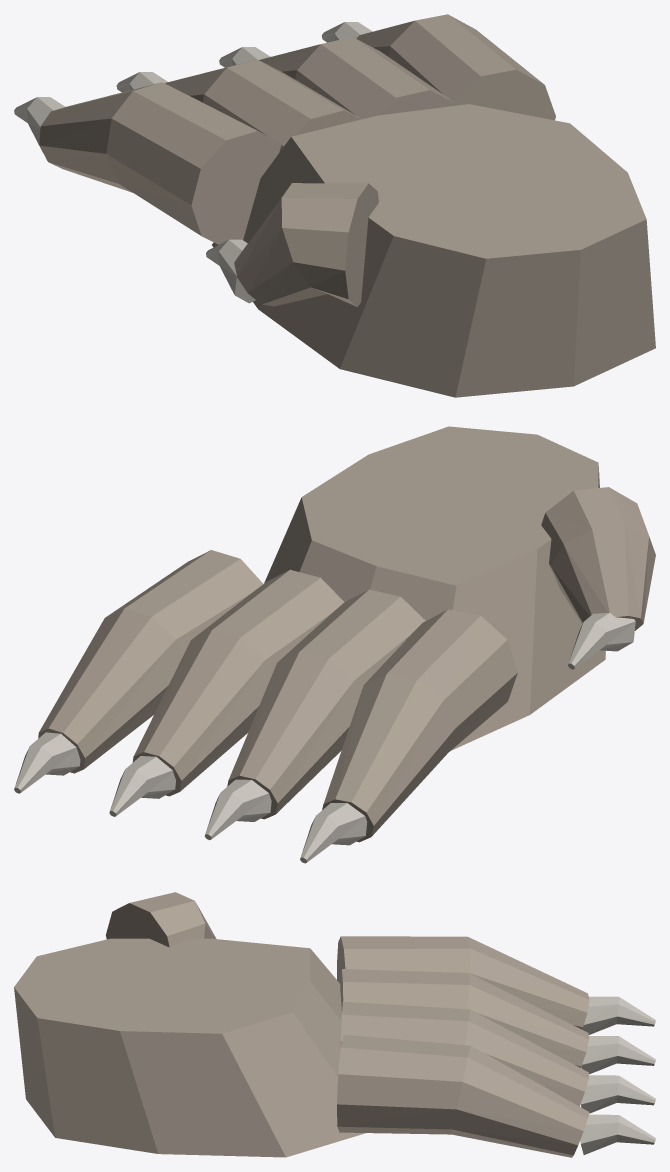
Rendered from rabbit_foot_fr_01.glb.
The picture shows the model from 3 angles, top to bottom: view 1: azimuth 30°, elevation 25°; view 2: azimuth 150°, elevation 25°; view 3: azimuth 270°, elevation 25°; orthographic projection. The views are drawn at different scales.
Visible parts, largest first — view 1: FrontRPalm, FrontRToe0, FrontRToe4, FrontRToe3, FrontRToe2, FrontRToe1, FrontRClaw4, FrontRClaw0, FrontRClaw3, FrontRClaw2, FrontRClaw1; view 2: FrontRPalm, FrontRToe0, FrontRToe3, FrontRToe2, FrontRToe1, FrontRToe4, FrontRClaw0, FrontRClaw1, FrontRClaw2, FrontRClaw3, FrontRClaw4; view 3: FrontRPalm, FrontRToe3, FrontRToe0, FrontRToe1, FrontRToe2, FrontRToe4, FrontRClaw3, FrontRClaw2, FrontRClaw1, FrontRClaw0.
Boxes of the visible parts, box(x1,y1,x2,y2) form: FrontRPalm: box(212, 104, 655, 397); FrontRToe0: box(39, 82, 282, 244); FrontRToe4: box(234, 183, 378, 306); FrontRToe3: box(356, 14, 555, 120); FrontRToe2: box(259, 37, 457, 119); FrontRToe1: box(165, 59, 361, 152); FrontRClaw4: box(206, 239, 255, 303); FrontRClaw0: box(14, 97, 65, 151); FrontRClaw3: box(321, 22, 372, 42); FrontRClaw2: box(219, 47, 270, 67); FrontRClaw1: box(116, 72, 167, 92); FrontRPalm: box(264, 426, 605, 750); FrontRToe0: box(322, 609, 517, 842); FrontRToe3: box(38, 550, 263, 773); FrontRToe2: box(132, 569, 344, 796); FrontRToe1: box(227, 589, 425, 819); FrontRToe4: box(541, 487, 655, 630); FrontRClaw0: box(300, 803, 367, 863); FrontRClaw1: box(204, 779, 271, 840); FrontRClaw2: box(109, 756, 175, 816); FrontRClaw3: box(14, 732, 80, 793); FrontRClaw4: box(568, 612, 635, 669); FrontRPalm: box(14, 938, 365, 1157); FrontRToe3: box(337, 1034, 589, 1157); FrontRToe0: box(337, 936, 589, 1029); FrontRToe1: box(340, 969, 588, 1067); FrontRToe2: box(340, 1002, 588, 1106); FrontRToe4: box(106, 892, 216, 947); FrontRClaw3: box(580, 1114, 655, 1154); FrontRClaw2: box(580, 1075, 655, 1113); FrontRClaw1: box(581, 1036, 655, 1074); FrontRClaw0: box(582, 996, 655, 1034).
Size of the model in its own units: 0.1073 by 0.0433 by 0.182.
